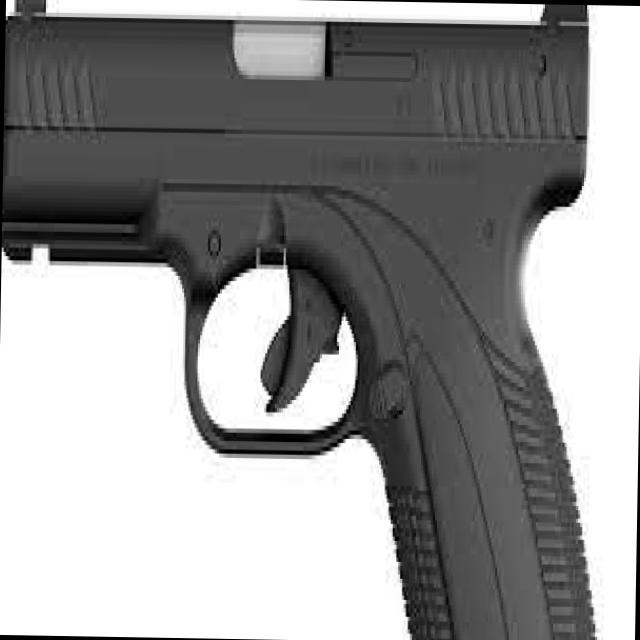Gun: (0, 0, 599, 640)
